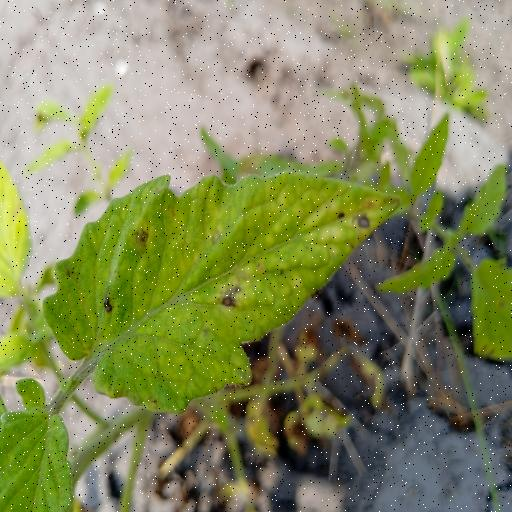Tomato_Brown_Spots: (38, 150, 408, 414)
